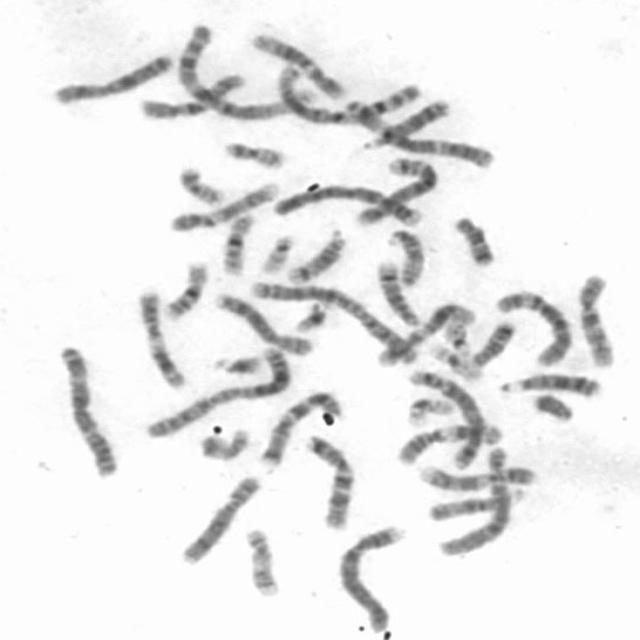A1: (172, 18, 322, 122), (270, 59, 420, 128)
A2: (243, 274, 420, 368), (137, 343, 296, 440)
A3: (338, 92, 497, 170), (53, 340, 122, 479)
B4: (332, 518, 410, 634), (270, 178, 428, 226)
B5: (402, 365, 486, 471), (349, 151, 442, 227)
C10: (132, 66, 248, 122), (572, 266, 621, 370)
C11: (131, 283, 189, 391), (389, 417, 504, 466)
C12: (369, 297, 477, 369), (246, 27, 351, 100)
C6: (432, 442, 516, 558), (489, 284, 575, 368)
C7: (252, 385, 347, 468), (299, 428, 357, 532)
C8: (175, 470, 265, 567), (208, 287, 316, 358)
C9: (166, 178, 282, 234), (412, 460, 542, 492)
D13: (359, 92, 450, 150), (495, 366, 606, 399)
D14: (282, 224, 350, 285), (370, 255, 422, 327)
D15: (423, 485, 529, 524), (382, 223, 428, 288)
E16: (156, 255, 212, 321), (216, 209, 256, 276)
E17: (239, 522, 285, 598), (195, 423, 253, 462)
E18: (447, 210, 497, 268), (468, 316, 519, 366)
F19: (422, 336, 486, 382), (401, 391, 456, 429)
F20: (172, 160, 229, 208), (217, 135, 288, 171)
G21: (206, 348, 268, 378), (289, 296, 333, 334)
G22: (254, 229, 298, 275), (440, 316, 474, 356)
X: (44, 48, 174, 106)
Y: (526, 387, 578, 423)
